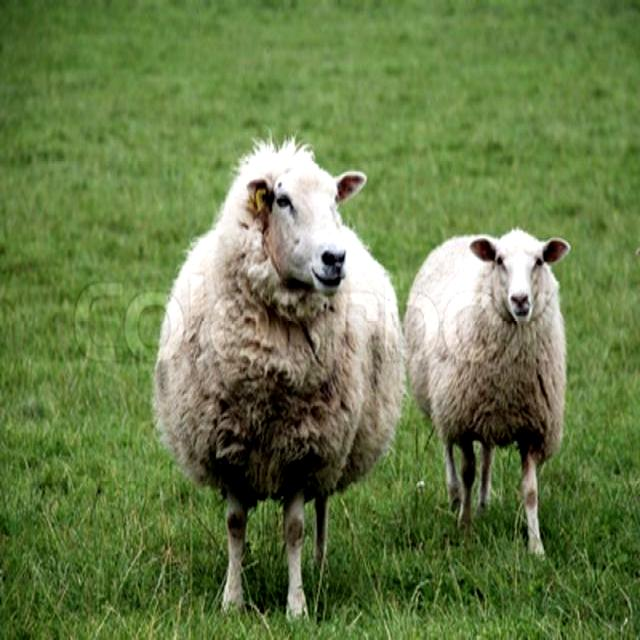sheep: (153, 145, 402, 622), (403, 228, 572, 560)
